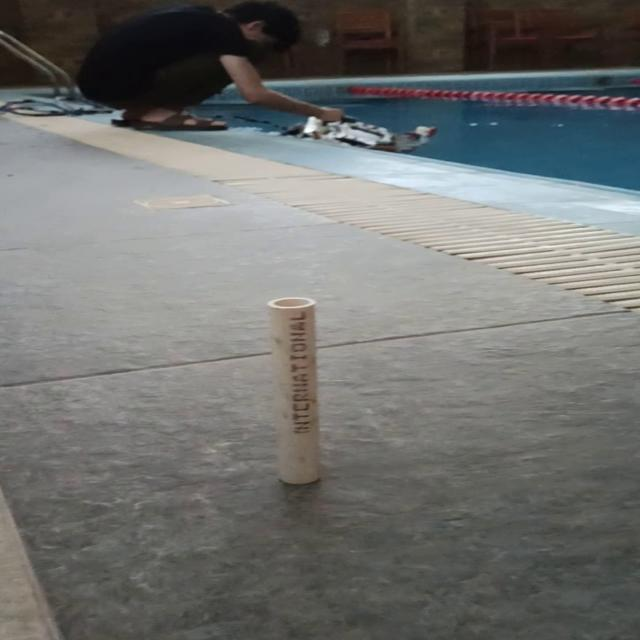Cube: (264, 296, 323, 484)
